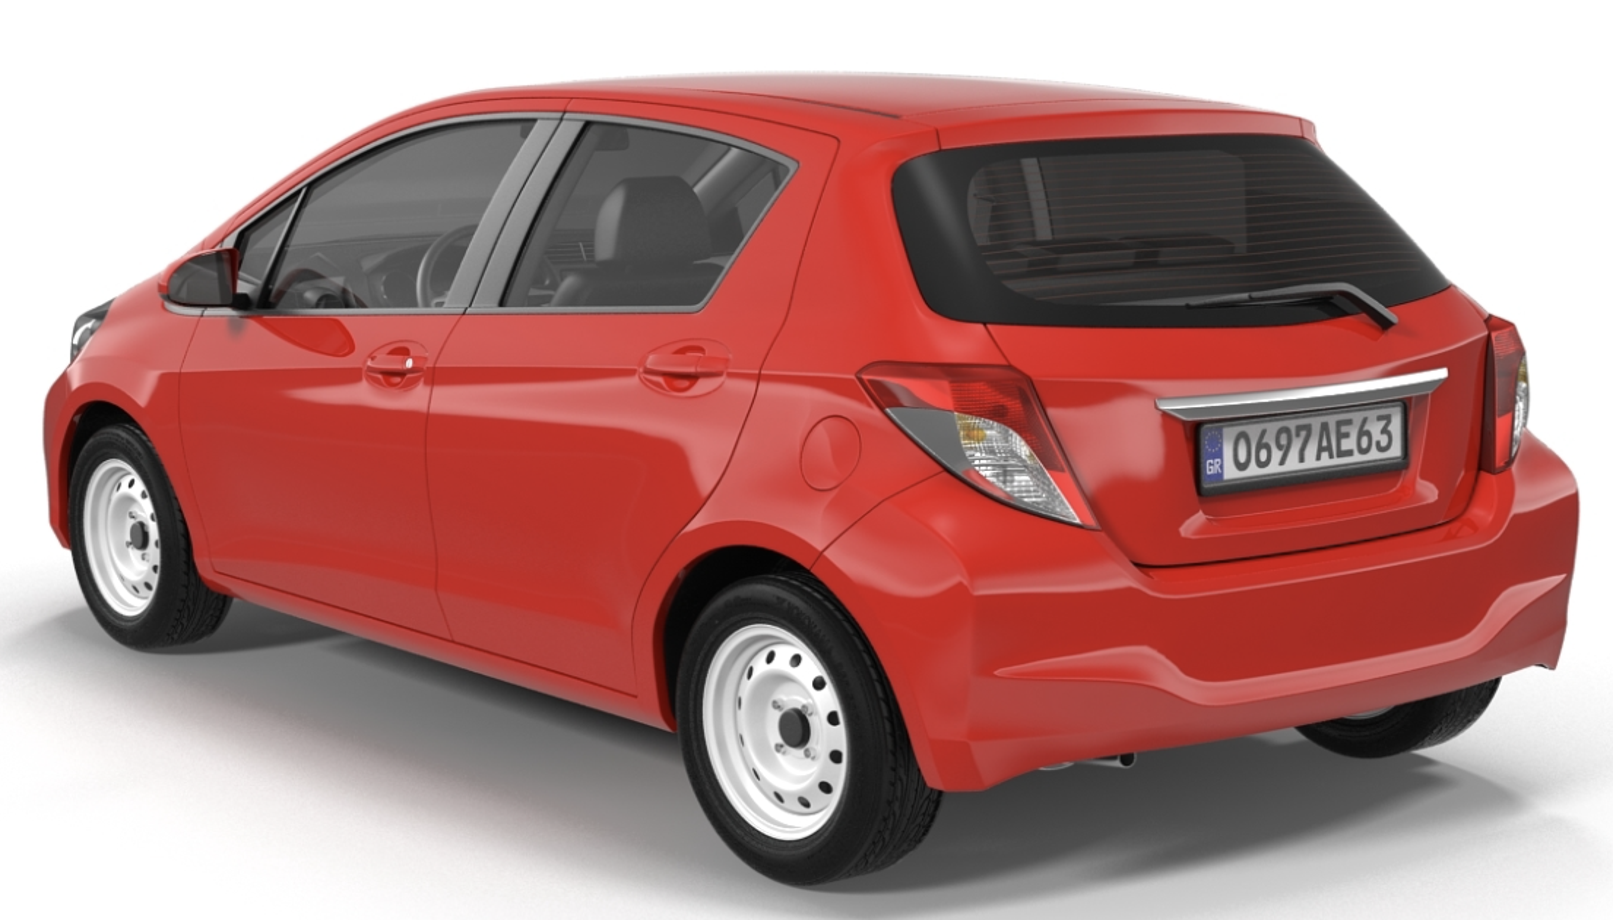hatch: (792, 410, 869, 501)
